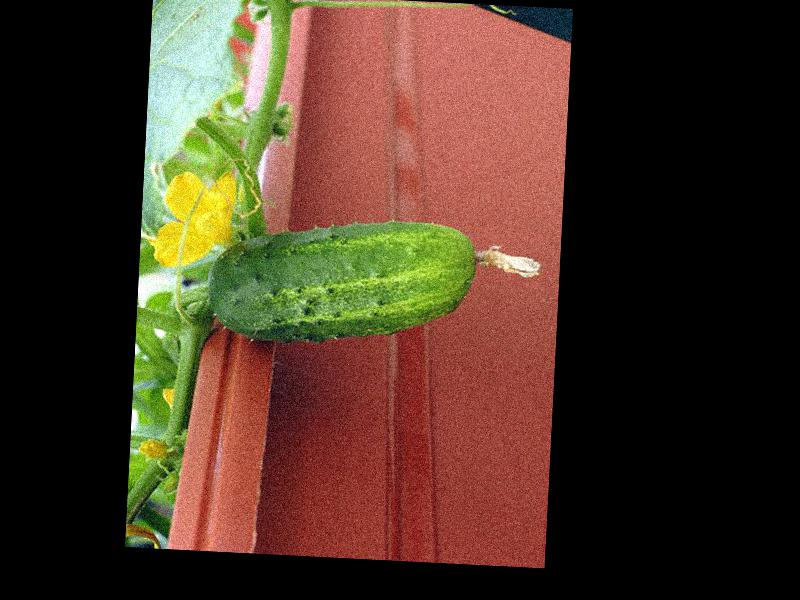Cucumber: (204, 210, 544, 354)
